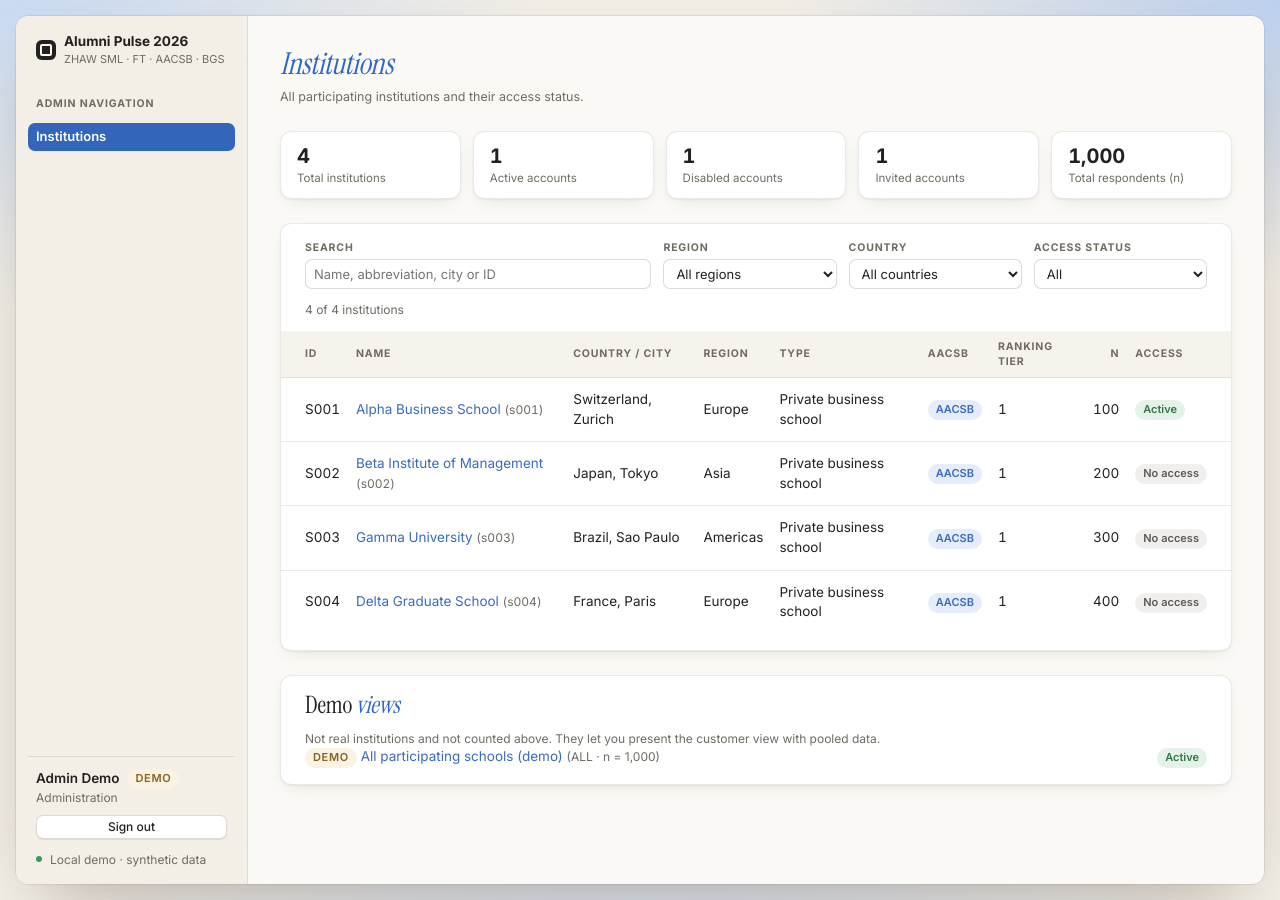
Test: Admin-Liste › filtert per Region
The width and height of the screenshot is (1280, 900).
Check: the link "Alpha Business School" is shown, box [356,401,501,417]
Select "Europe" in the dropdown labelled "Region": (750, 274) [663,259,837,289]
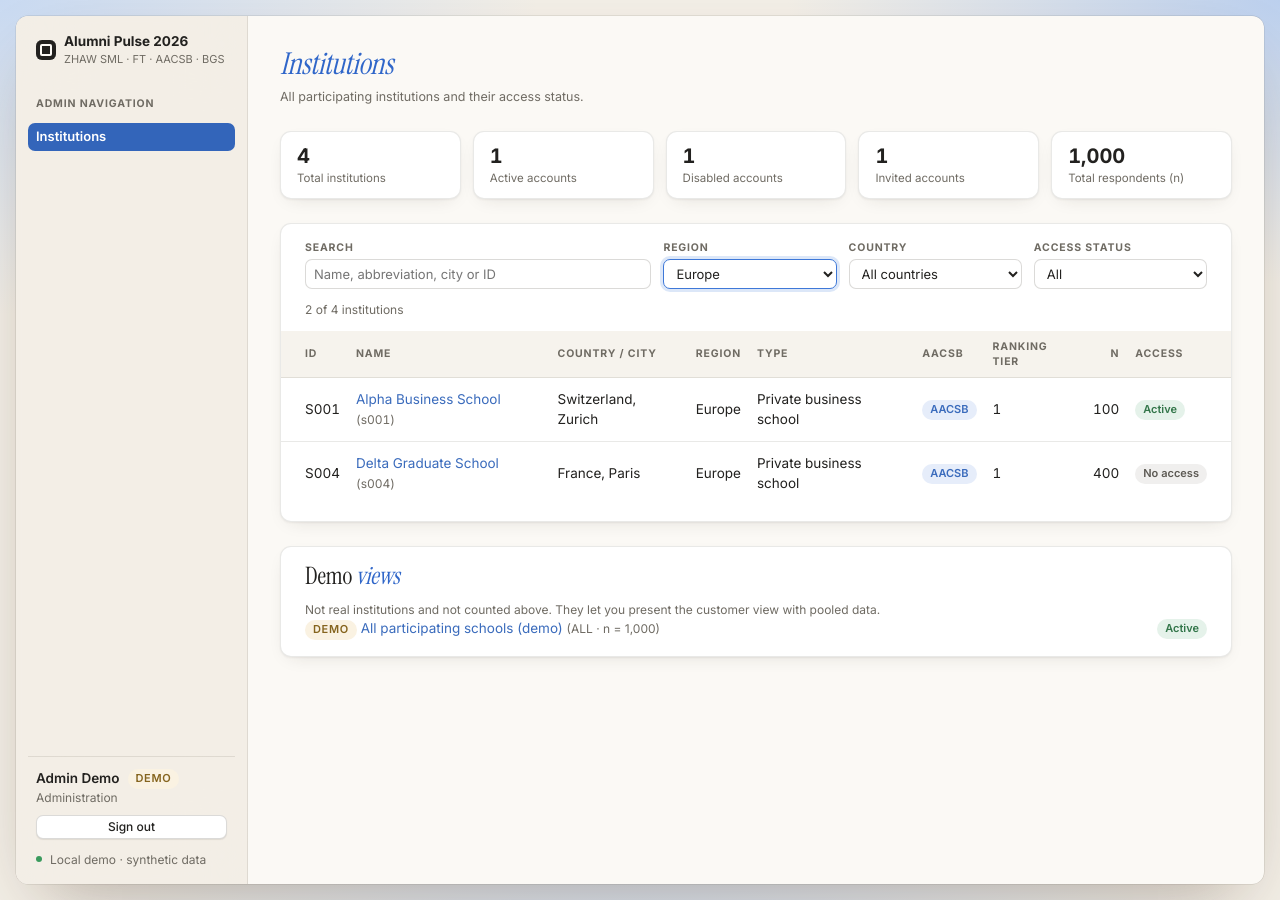
Check: the message with test id "result-count" shows "2 of 4", box [305,302,404,317]
Check: the link "Gamma University" is gone
